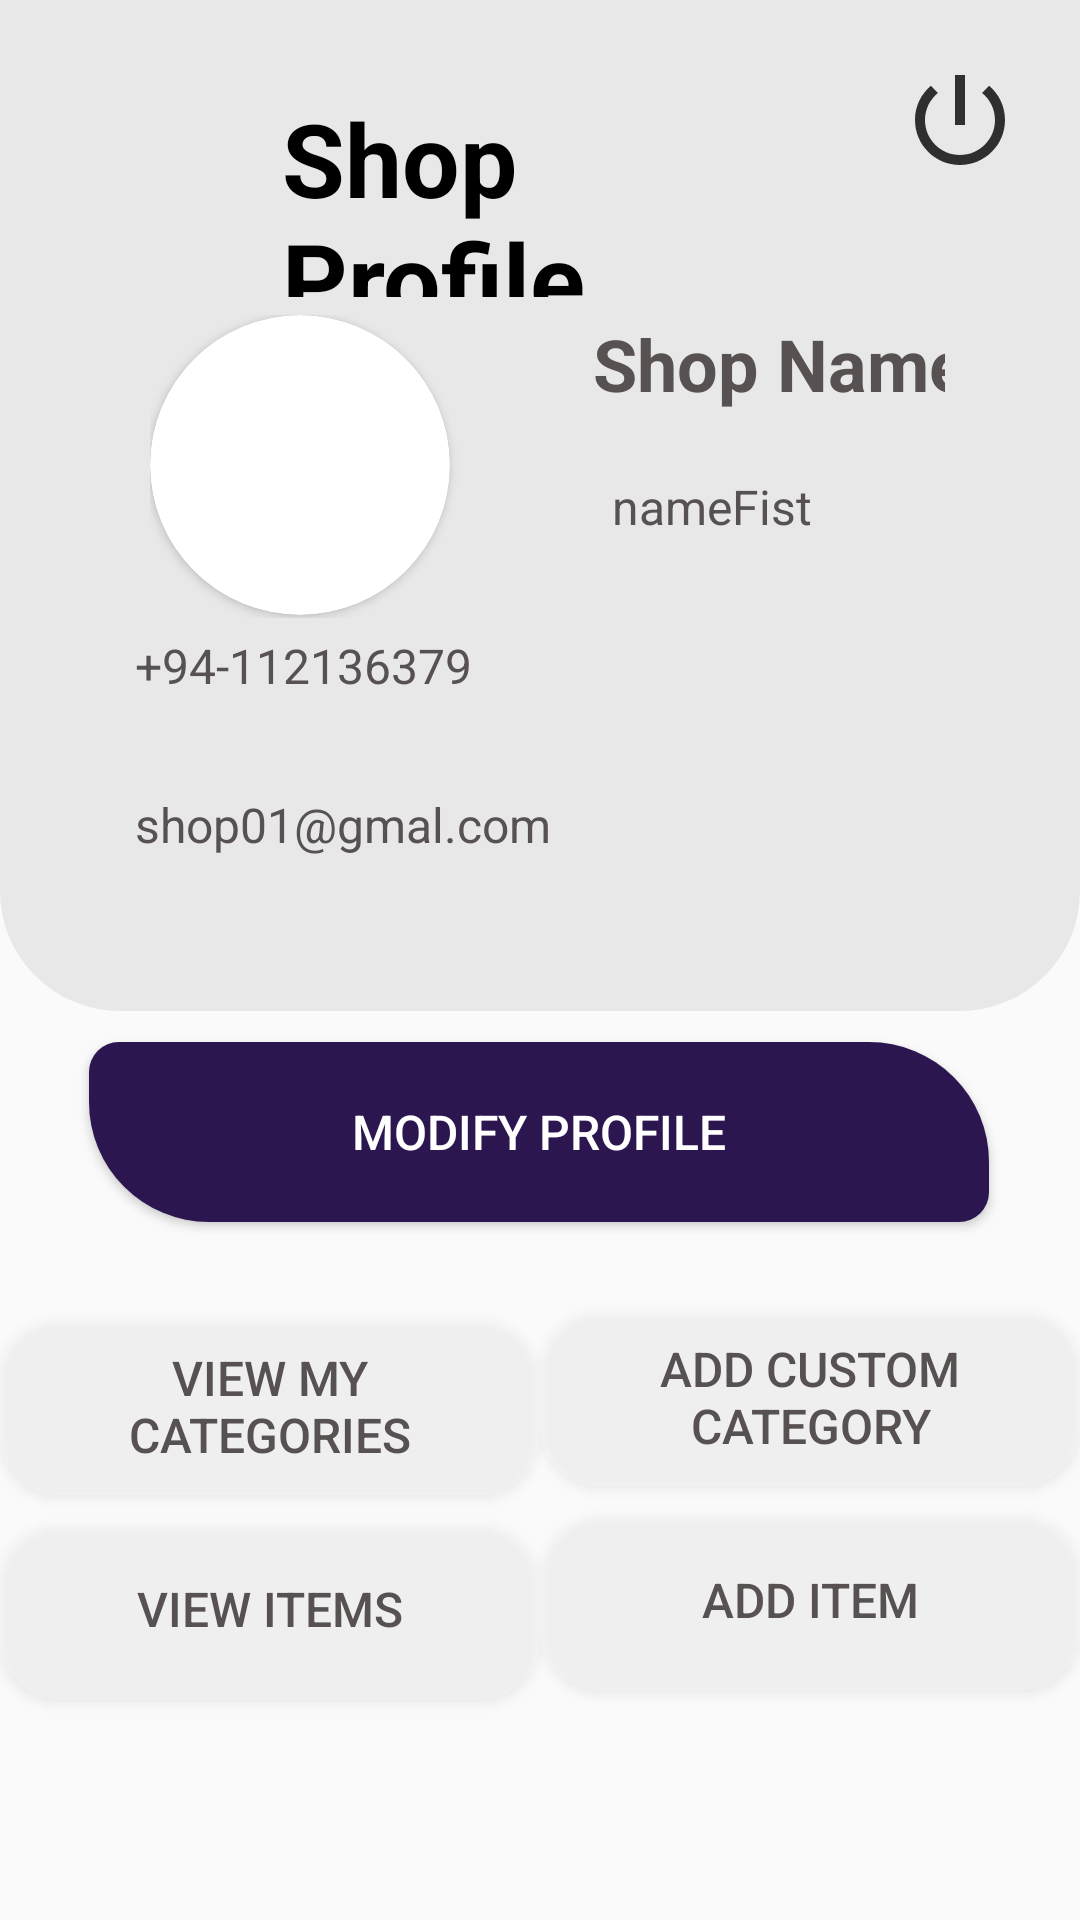

Where to tap for icons on this 1080px×1920px app screen, as (x=x, y=y):
power: (x=960, y=120)
